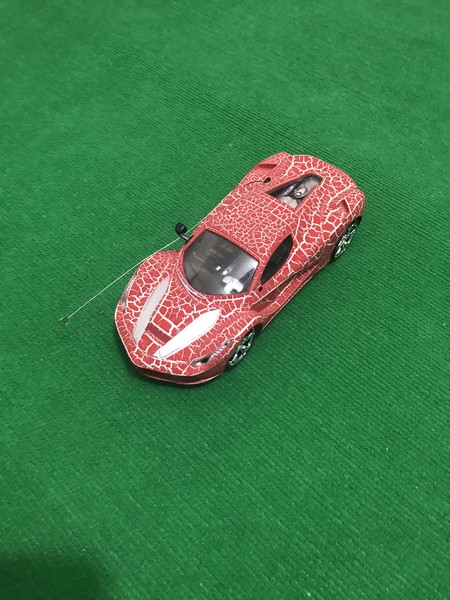RC: (111, 150, 367, 392)
